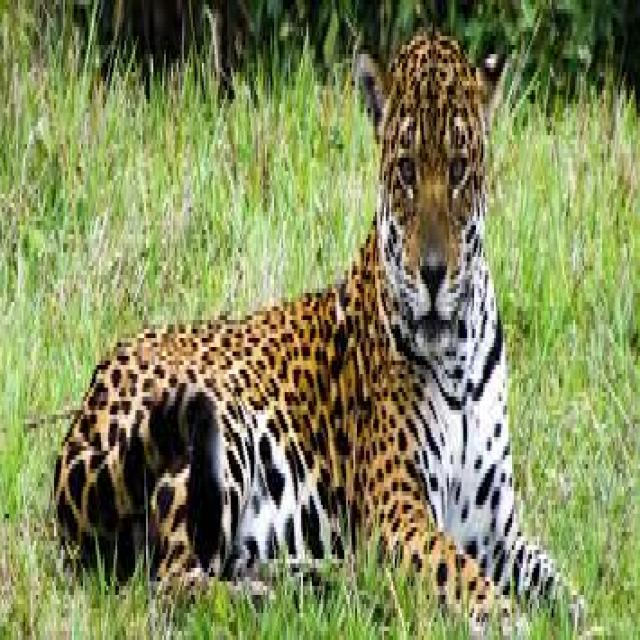Jaguar: (52, 27, 600, 640)
